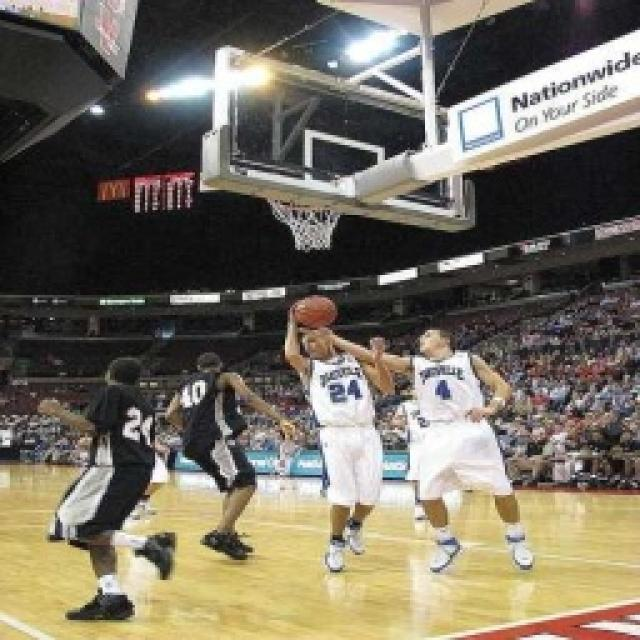basketball: (284, 289, 342, 333)
